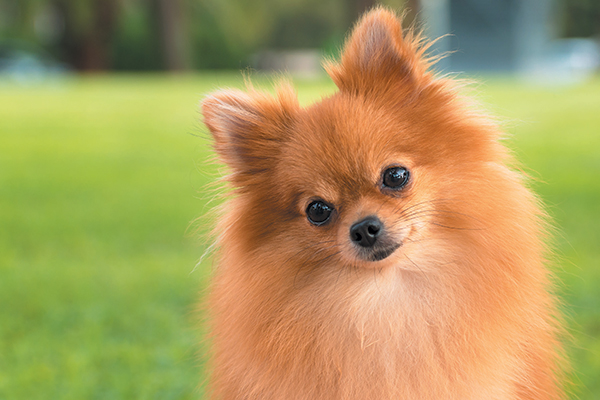pomeranian: (179, 10, 561, 394)
